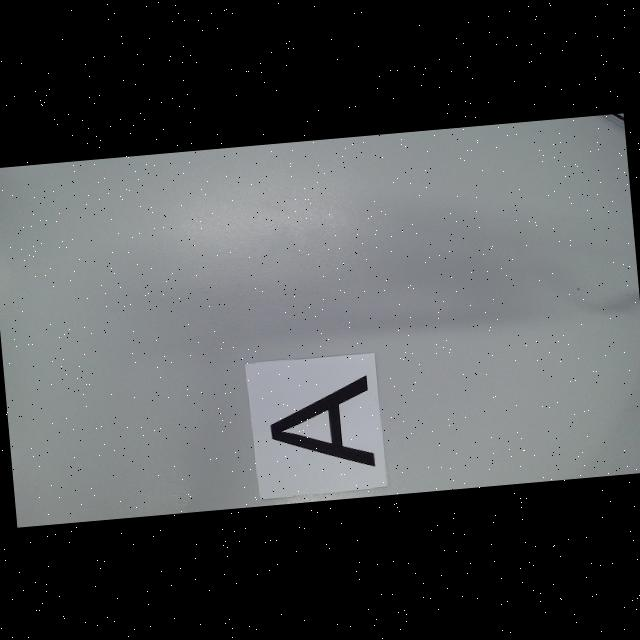FAKE: (266, 374, 376, 475)
